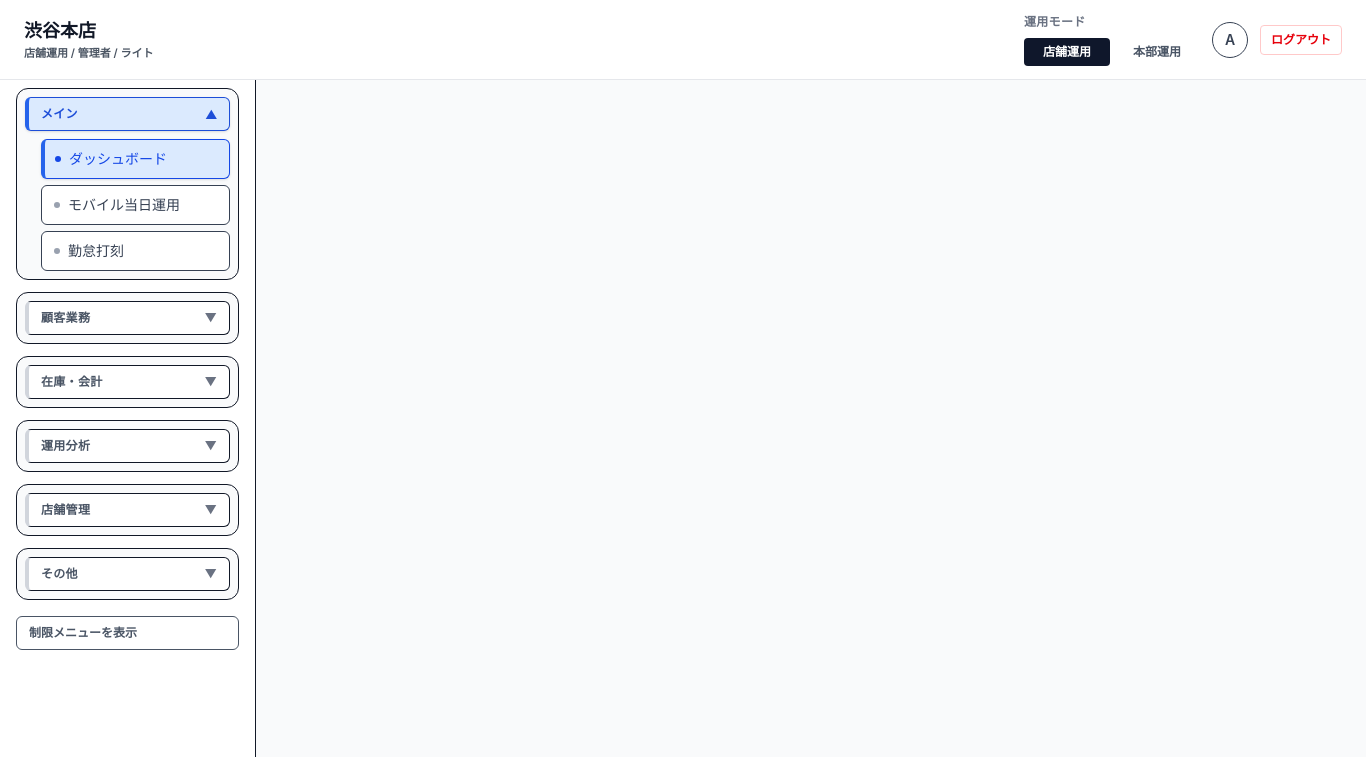
Sidebar component › shows locked menus after toggling locked menu button
Check: the text "KPIレポート" is not shown
Click the button "制限メニューを表示": (128, 633) [16,616,239,650]
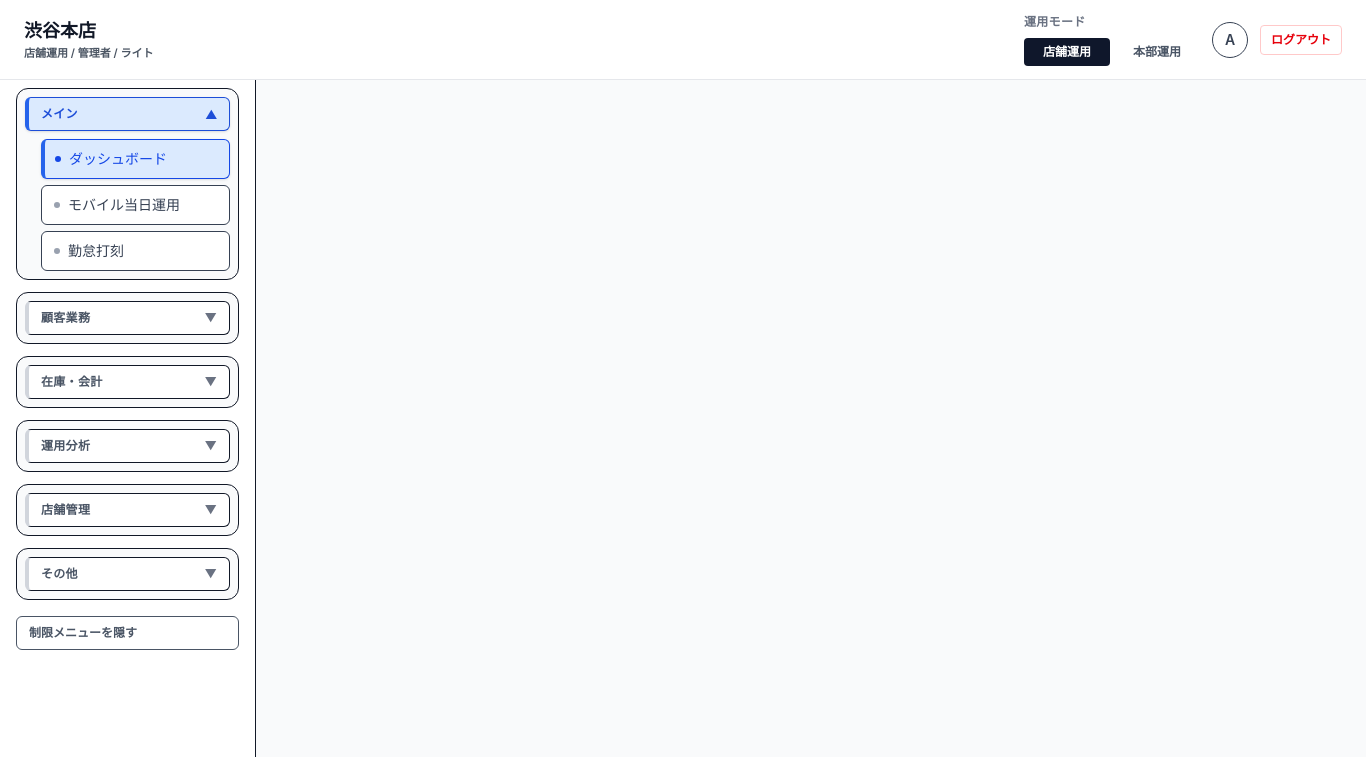
Click the button "運用分析 ▼": (128, 446) [25,429,230,463]
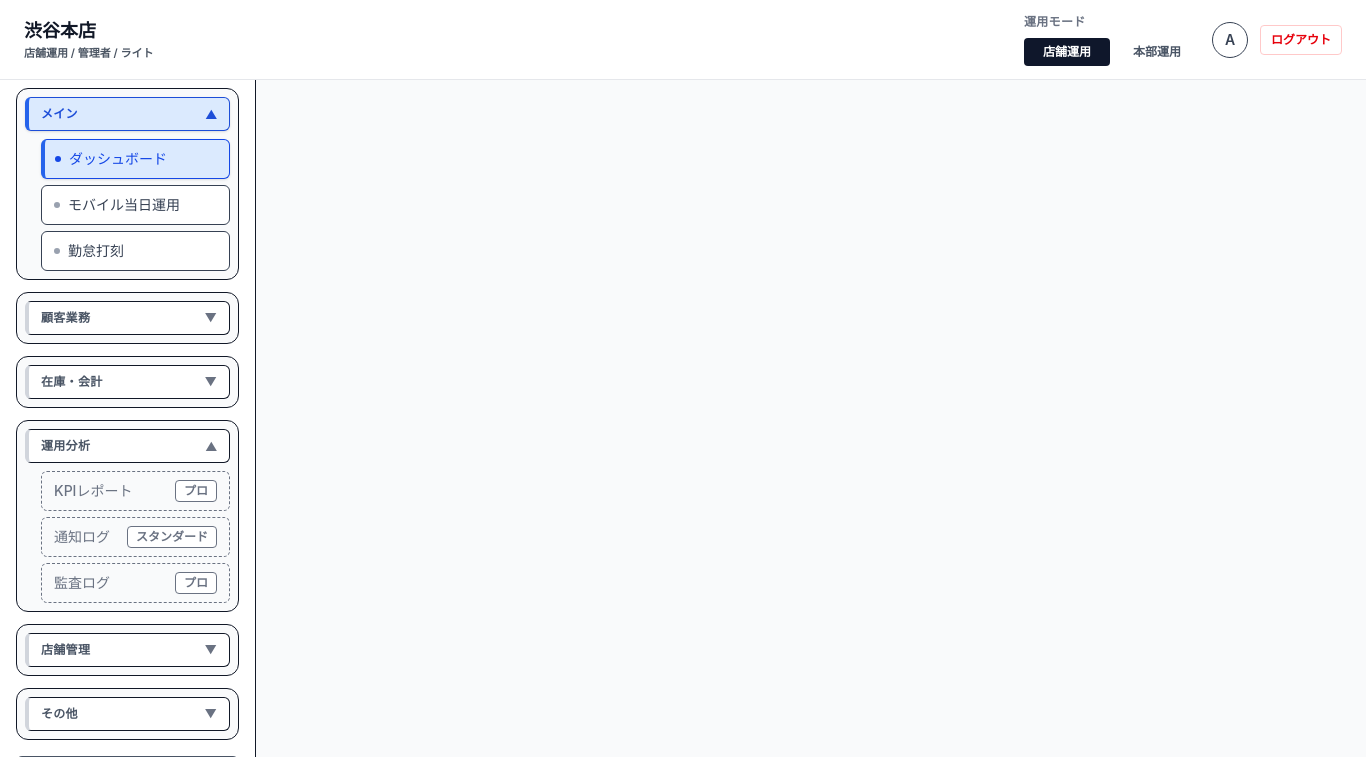
Check: the text "KPIレポート" is shown, box [54,481,132,501]
Check: the text "プロ" next to "KPIレポート" is shown, box [184,483,208,498]
